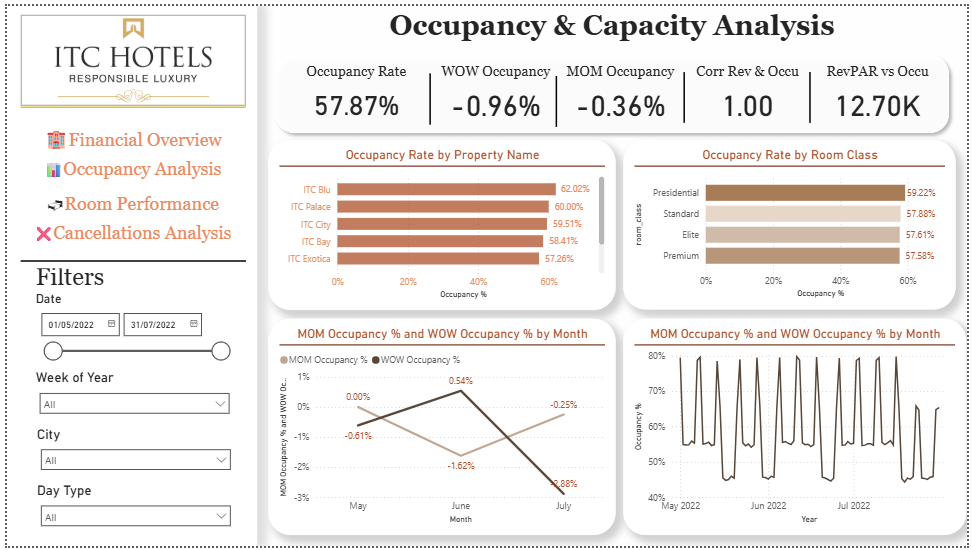

Layout of this report page (visuals, bound fields, positions):
{"tool":"powerbi","page":{"name":"Occupancy Analysis","canvas":[1280,720],"ordinal":1},"visuals":[{"type":"shape","title":"panel_Sidebar","box":[0,0,333.3,720],"z":0},{"type":"textbox","box":[333.3,0,946.7,56.7],"z":1000},{"type":"shape","box":[348.3,56.7,916.7,121.7],"z":2000},{"type":"textbox","title":"txt_Cancellations","box":[11.8,283.6,311.8,41.8],"z":3000},{"type":"shape","box":[553.3,90,21.7,68.3],"z":4000},{"type":"textbox","title":"txt_RoomPerf","box":[11.8,241.8,311.8,41.8],"z":5000},{"type":"card","title":"Occupancy Rate","fields":{"Values":["key_measures.Occupancy %"]},"box":[373.3,76.7,185,85],"z":6000},{"type":"textbox","title":"txt_Occupancy","box":[11.8,198.2,311.8,43.6],"z":7000},{"type":"card","title":"MOM Growth %","fields":{"Values":["ITC.MOM Growth %"]},"box":[976.7,283.3,168.3,85],"z":8000},{"type":"textbox","title":"txt_Financial","box":[12,157,312,42],"z":9000},{"type":"card","title":"RevPAR vs Occu","fields":{"Values":["ITC.RevPAR vs Occu"]},"box":[1071.7,76.7,178.3,85],"z":10000},{"type":"actionButton","title":"btn_Cancellations","box":[15,285,313.3,41.7],"z":11000},{"type":"card","title":"Corr Rev & Occu","fields":{"Values":["ITC.Corr Rev & Occu"]},"box":[903.3,76.7,168.3,85],"z":12000},{"type":"actionButton","title":"btn_RoomPerf","box":[15,243.3,313.3,40],"z":13000},{"type":"card","title":"MOM Occupancy ","fields":{"Values":["ITC.MOM Occupancy %"]},"box":[732.9,76.5,168.8,85.1],"z":14000},{"type":"actionButton","title":"btn_Occupancy","box":[11.7,198.3,316.7,45],"z":15000},{"type":"shape","box":[721.4,93.8,21.6,67.8],"z":16000},{"type":"actionButton","title":"btn_Financial","box":[11.7,156.7,311.7,40],"z":17000},{"type":"shape","box":[891.2,88.8,22.5,67.5],"z":18000},{"type":"shape","box":[1060,88.8,21.2,67.5],"z":19000},{"type":"barChart","title":"Occupancy Rate by Property Name","fields":{"Category":["dim_hotels.property_name"],"Y":["key_measures.Occupancy %"]},"box":[348.3,177.9,463.4,227.2],"z":20000},{"type":"barChart","title":"Occupancy Rate by Room Class","fields":{"Category":["dim_rooms.room_class"],"Y":["key_measures.Occupancy %"]},"box":[821.7,178.3,443.3,226.7],"z":21000},{"type":"card","title":"WOW Occupancy","fields":{"Values":["ITC.WOW Occupancy %"]},"box":[569.9,76.5,163,85.1],"z":22000},{"type":"lineChart","title":"MOM Occupancy % and WOW Occupancy % by Month","fields":{"Category":["dim_date.date.Variation.Date Hierarchy.Month"],"Y":["ITC.MOM Occupancy %","ITC.WOW Occupancy %"]},"box":[348.3,417.1,463.4,288.5],"z":23000},{"type":"lineChart","title":"MOM Occupancy % and WOW Occupancy % by Month","fields":{"Y":["key_measures.Occupancy %"],"Category":["dim_date.date.Variation.Date Hierarchy.Year","dim_date.date.Variation.Date Hierarchy.Quarter","dim_date.date.Variation.Date Hierarchy.Month","dim_date.date.Variation.Date Hierarchy.Day"]},"box":[822.2,417.1,457.5,288.5],"z":24000},{"type":"shape","box":[18.3,123.3,300,23.3],"z":27000},{"type":"shape","box":[18.3,320,300,40],"z":28001},{"type":"slicer","title":"Date","fields":{"Values":["dim_date.date"]},"box":[33.3,380,273.3,105],"z":28002},{"type":"textbox","box":[33.3,345,173.3,46.7],"z":28003},{"type":"slicer","title":"Week of Year","fields":{"Values":["dim_date.week no"]},"box":[33.3,485,273.3,75],"z":28004},{"type":"slicer","title":"City","fields":{"Values":["dim_hotels.city"]},"box":[35,560,273.3,75],"z":28005},{"type":"slicer","title":"Day Type","fields":{"Values":["dim_date.day type"]},"box":[35,635,273.3,75],"z":28006},{"type":"image","box":[18.3,11.7,300,121.7],"z":28007}]}

Visuals, with their boxes in screenshot pixels (x1, y1, x2, y2), scaled from the page's 1280x720 canvas onto the 972x550 screenshot:
"panel_Sidebar" shape: 0/0/253/549
textbox: 253/0/971/43
shape: 264/43/961/136
"txt_Cancellations" textbox: 9/217/246/249
shape: 420/69/437/121
"txt_RoomPerf" textbox: 9/185/246/217
"Occupancy Rate" card: 283/59/424/124
"txt_Occupancy" textbox: 9/151/246/185
"MOM Growth %" card: 742/216/869/281
"txt_Financial" textbox: 9/120/246/152
"RevPAR vs Occu" card: 814/59/949/124
"btn_Cancellations" actionButton: 11/218/249/250
"Corr Rev & Occu" card: 686/59/814/124
"btn_RoomPerf" actionButton: 11/186/249/216
"MOM Occupancy " card: 557/58/685/123
"btn_Occupancy" actionButton: 9/151/249/186
shape: 548/72/564/123
"btn_Financial" actionButton: 9/120/246/150
shape: 677/68/694/119
shape: 805/68/821/119
"Occupancy Rate by Property Name" barChart: 264/136/616/309
"Occupancy Rate by Room Class" barChart: 624/136/961/309
"WOW Occupancy" card: 433/58/557/123
"MOM Occupancy % and WOW Occupancy % by Month" lineChart: 264/319/616/539
"MOM Occupancy % and WOW Occupancy % by Month" lineChart: 624/319/971/539
shape: 14/94/242/112
shape: 14/244/242/275
"Date" slicer: 25/290/233/370
textbox: 25/264/157/299
"Week of Year" slicer: 25/370/233/428
"City" slicer: 27/428/234/485
"Day Type" slicer: 27/485/234/542
image: 14/9/242/102
